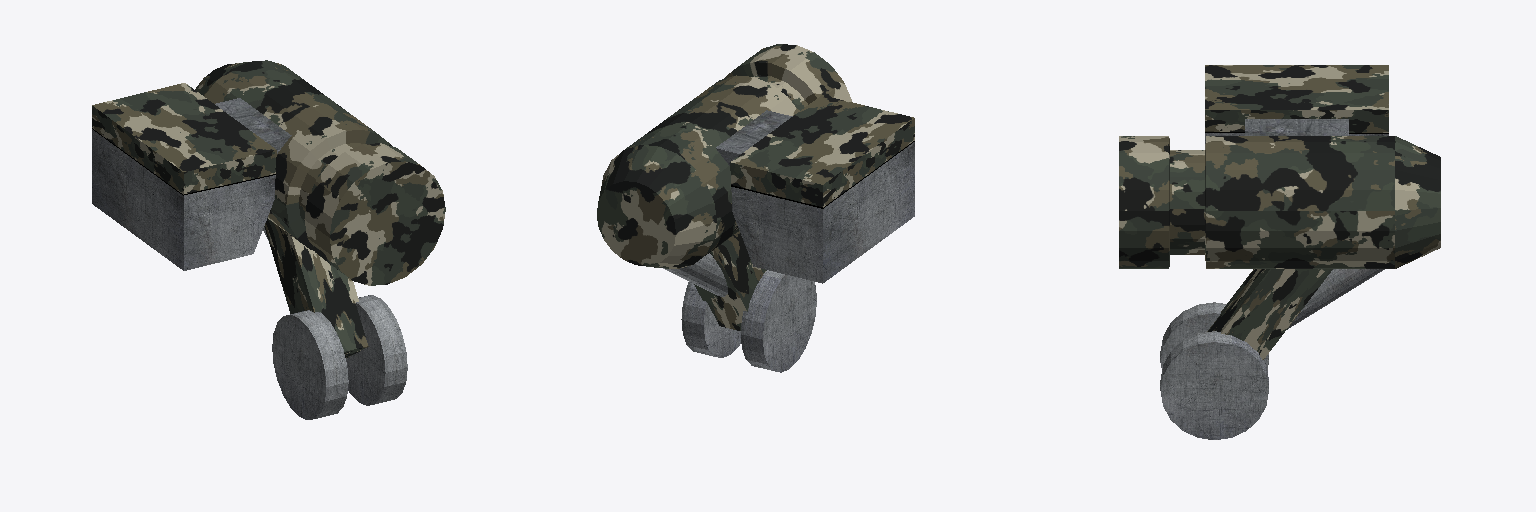
The picture shows the model from 3 angles: view 1: azimuth 30°, elevation 25°; view 2: azimuth 150°, elevation 25°; view 3: azimuth 270°, elevation 25°; orthographic projection.
Visible parts, largest first — view 1: Tullet05ho:pCylinder17; view 2: Tullet05ho:pCylinder17; view 3: Tullet05ho:pCylinder17.
Boxes of the visible parts, <box> form: Tullet05ho:pCylinder17: <box>92,60,445,419</box>; Tullet05ho:pCylinder17: <box>597,44,914,372</box>; Tullet05ho:pCylinder17: <box>1119,65,1440,439</box>.
Size of the model in its own units: 3.71 by 4.51 by 4.71.
1 materials, 1 textured.